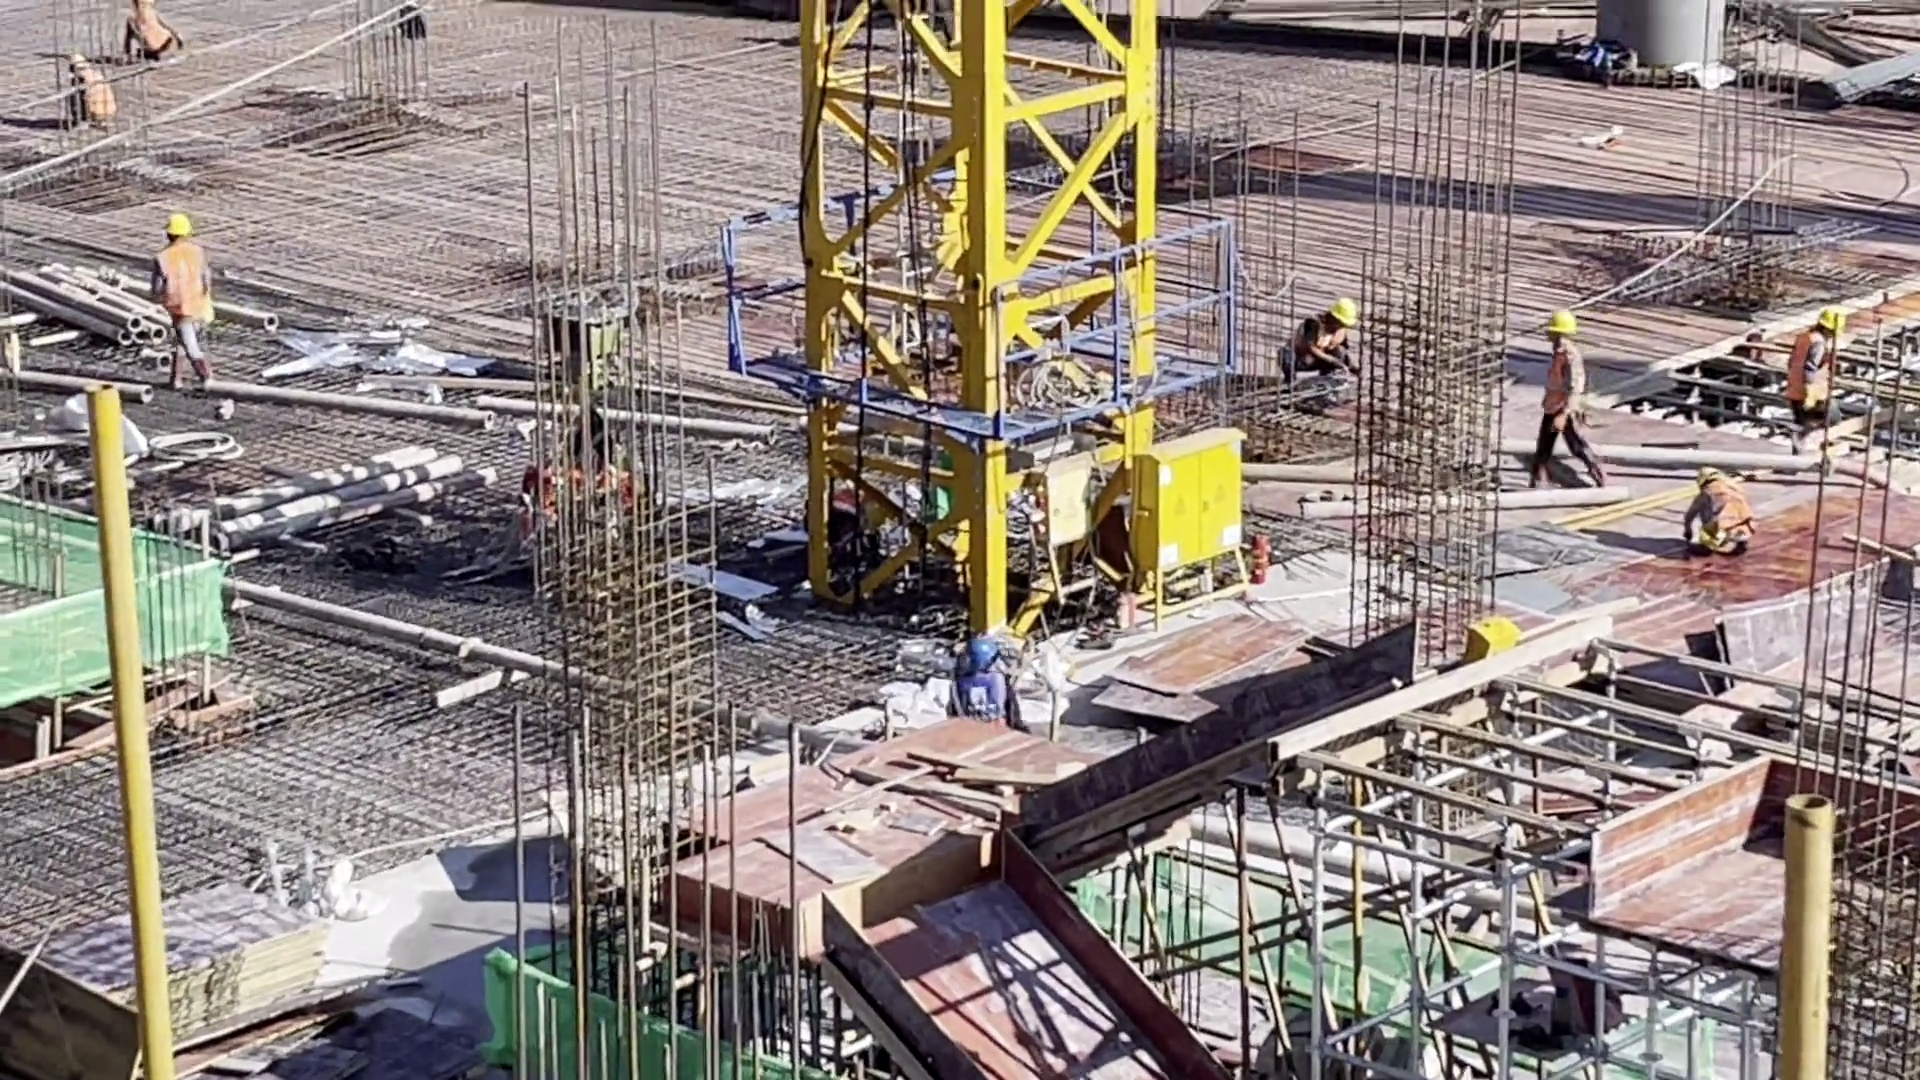helmet: (965, 634, 998, 671), (1544, 312, 1579, 340), (1333, 298, 1364, 329), (162, 214, 193, 239), (1816, 305, 1847, 329)
person: (1525, 303, 1610, 489), (149, 211, 217, 399), (1773, 302, 1847, 453), (1272, 296, 1360, 395), (944, 624, 1023, 729), (1676, 465, 1756, 553), (67, 57, 121, 135), (120, 1, 189, 60)
vest: (156, 236, 213, 328), (1783, 334, 1836, 427), (1278, 316, 1344, 377), (1541, 336, 1587, 423), (1700, 484, 1759, 546), (959, 672, 1015, 730)
